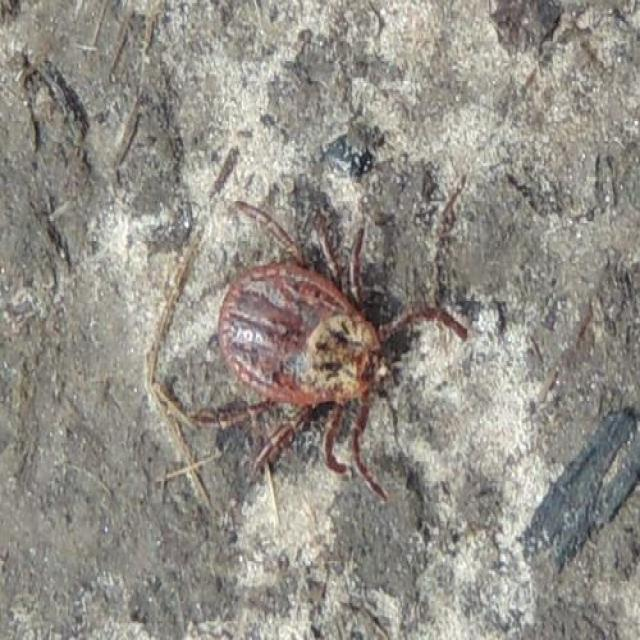Dermacentor Reticulatus-F: (196, 202, 468, 502)
